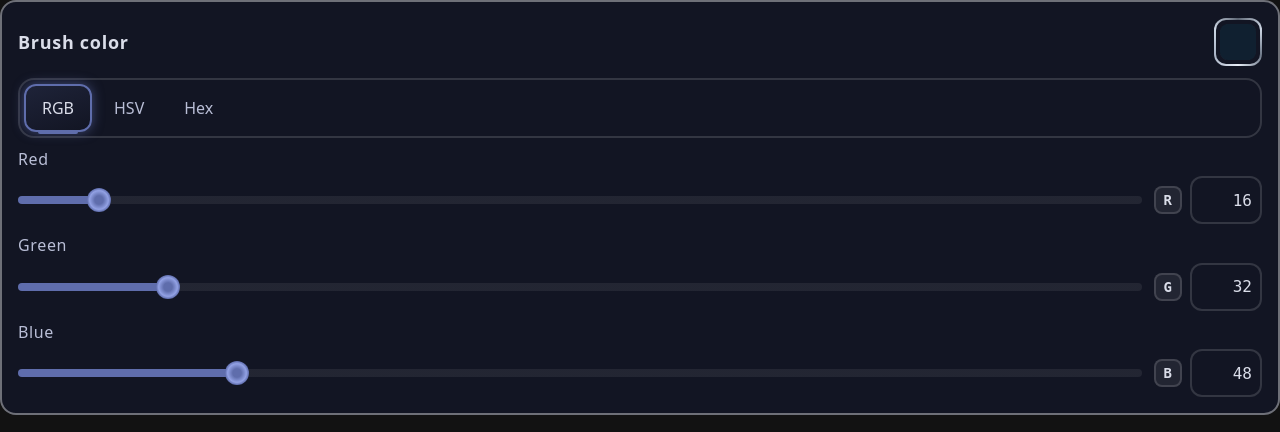
Test case: ColorPicker › resyncs a channel input to the canonical value on blur
Replace the text in the field named "Red value" with "abc": (1226, 200) [1190,176,1262,224]
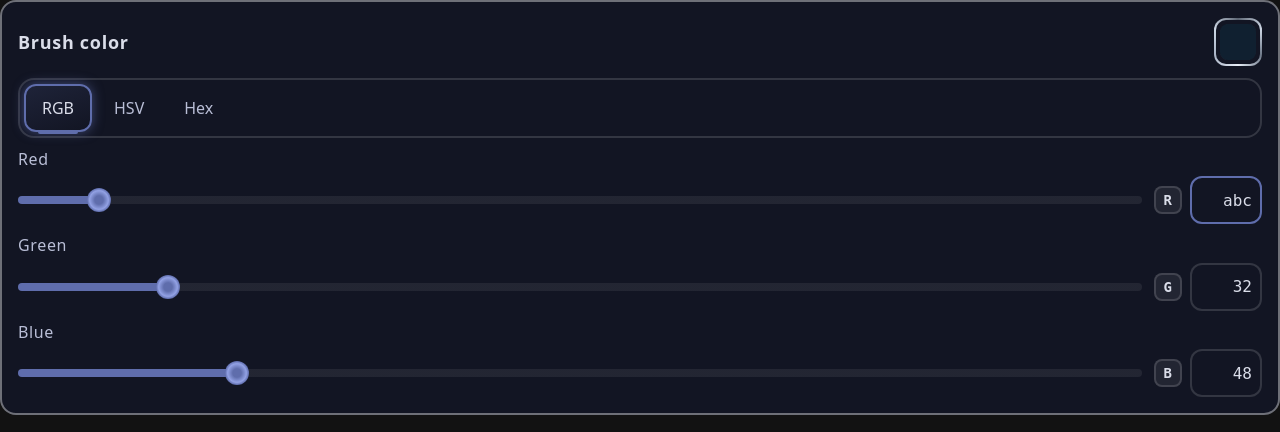
Leave the field named "Red value", box [1190,176,1262,224]
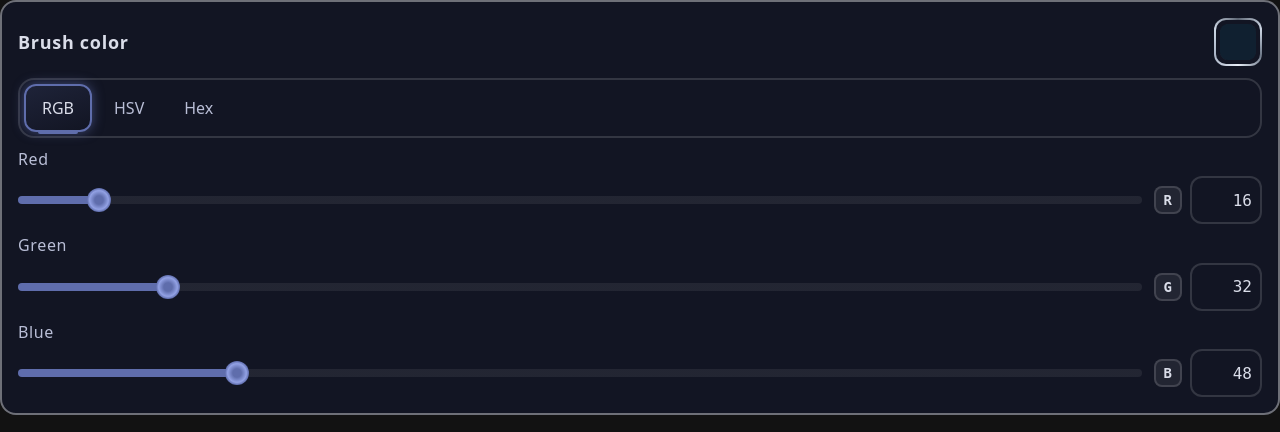
Now the field named "Red value" holds "16", box [1190,176,1262,224]
